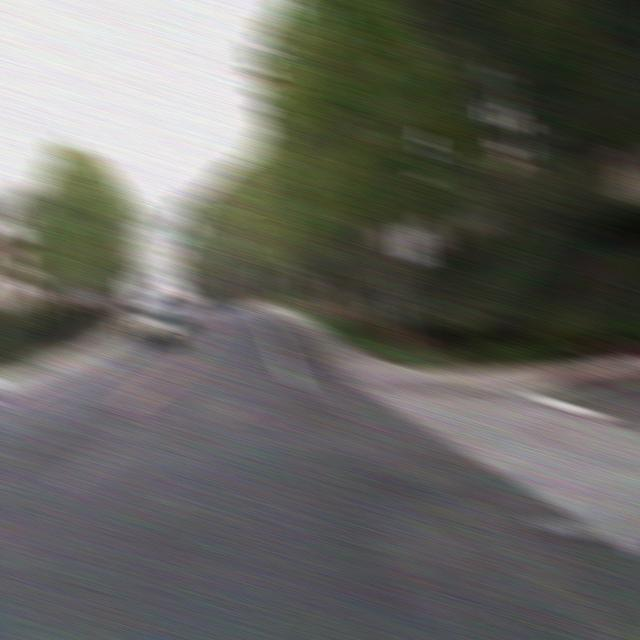speedLimit35: (395, 224, 430, 264)
